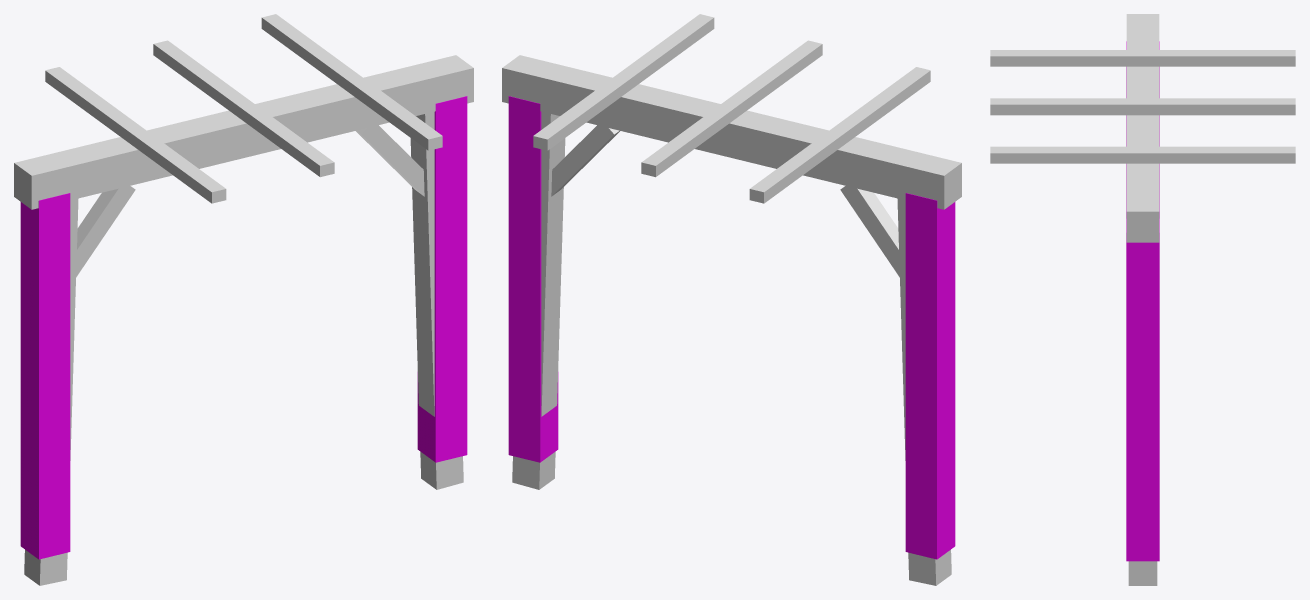
Rendered from mine_support.glb.
3 views of the same model, side by side, from view 1: azimuth 30°, elevation 25°; view 2: azimuth 150°, elevation 25°; view 3: azimuth 270°, elevation 25° (orthographic). The views are drawn at different scales.
Visible parts, largest first — view 1: mine_support, mine_support_hull; view 2: mine_support, mine_support_hull; view 3: mine_support, mine_support_hull.
Boxes of the visible parts, x1,y1,x2,y2 form: mine_support: [14, 14, 473, 585]; mine_support_hull: [20, 96, 467, 559]; mine_support: [502, 14, 961, 585]; mine_support_hull: [508, 96, 955, 559]; mine_support: [990, 14, 1295, 585]; mine_support_hull: [1126, 41, 1159, 561].
Bounding box in the file's own units: 4.9 × 4.51 × 3.2.
